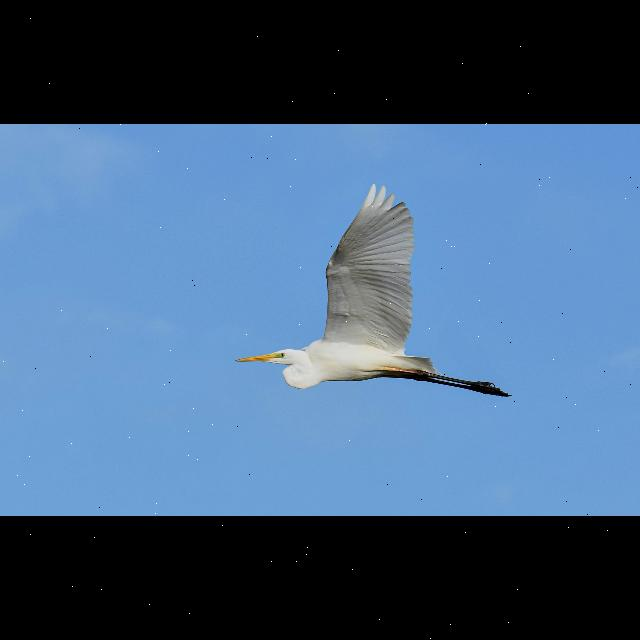egret: (218, 184, 524, 400)
